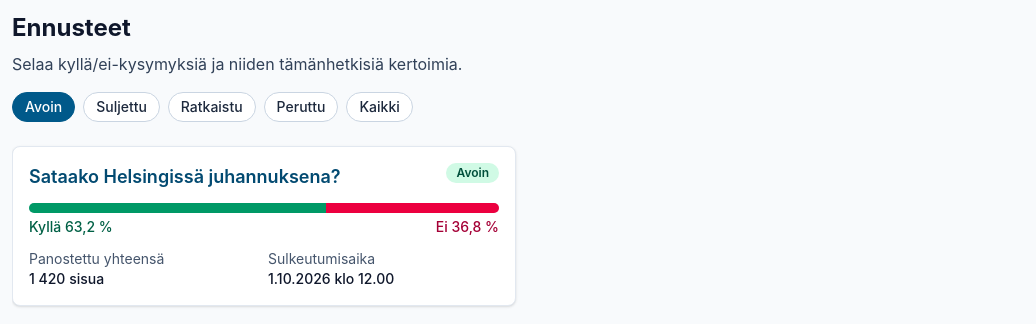
it: PredictionList › refetches with the chosen status filter and marks it pressed
Expected: the link "Sataako Helsingissä juhannuksena?" is shown, [29,166,340,187]
Step 1. Click the button "Ratkaistu" → (212, 107), box [168,92,256,122]
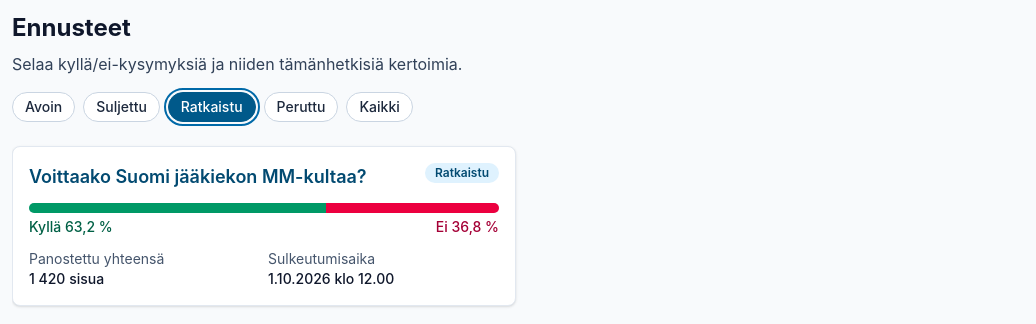
Now the link "Voittaako Suomi jääkiekon MM-kultaa?" is shown, box [29,166,367,187]
Now the link "Sataako Helsingissä juhannuksena?" is gone
Step 2. Click the button "Kaikki" → (380, 107), box [346,92,413,122]
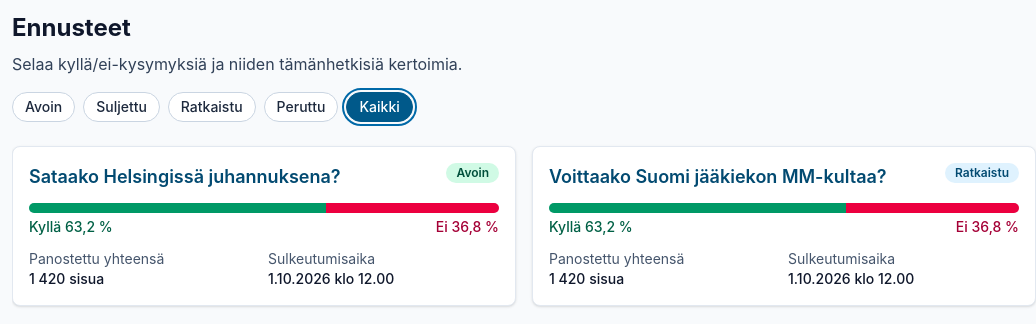
Now the link "Voittaako Suomi jääkiekon MM-kultaa?" is shown, box [549,166,887,187]
Now the link "Sataako Helsingissä juhannuksena?" is shown, box [29,166,340,187]
